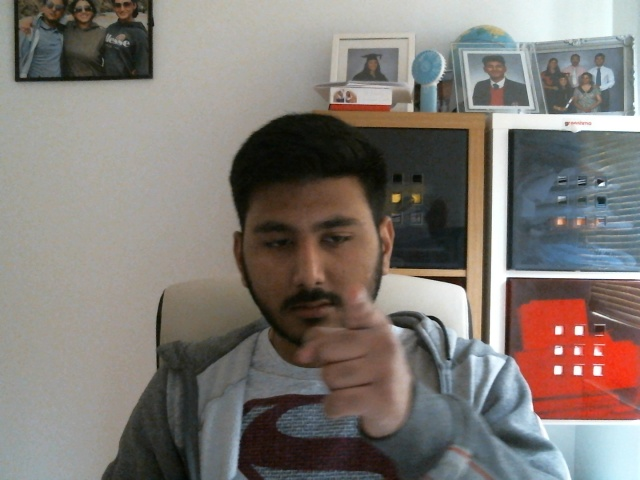you: (294, 283, 407, 420)
